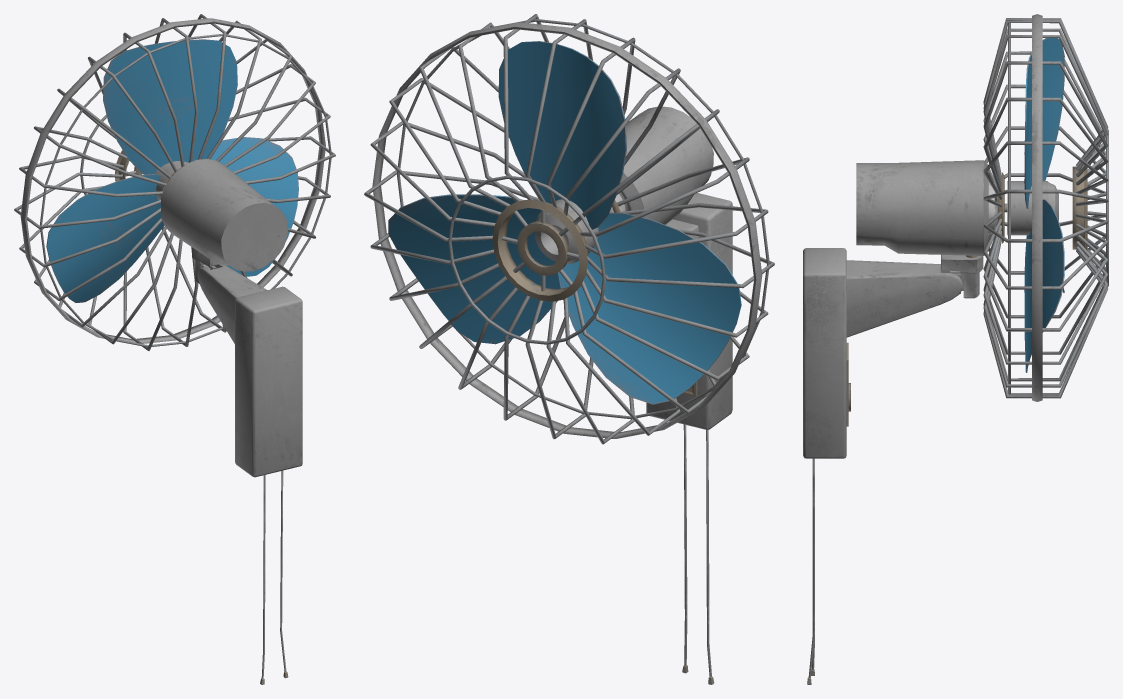
The model's file is Fan.fbx.
3 renders of one model, left to right at view 1: azimuth 30°, elevation 25°; view 2: azimuth 150°, elevation 25°; view 3: azimuth 270°, elevation 25°, orthographic. The views are drawn at different scales.
Parts seen in each view (by area): view 1: Kerangka, Baling baling, Fan; view 2: Kerangka, Baling baling, Fan; view 3: Kerangka, Fan, Baling baling, Engsel.
Part boxes in pixels (left/top/right/bottom): Kerangka: left=14, top=14, right=335, bottom=350; Baling baling: left=46, top=39, right=298, bottom=302; Fan: left=197, top=264, right=302, bottom=684; Kerangka: left=364, top=14, right=774, bottom=444; Baling baling: left=388, top=41, right=741, bottom=404; Fan: left=646, top=193, right=732, bottom=684; Kerangka: left=856, top=14, right=1108, bottom=401; Fan: left=803, top=248, right=962, bottom=684; Baling baling: left=1007, top=38, right=1064, bottom=372; Engsel: left=941, top=255, right=983, bottom=298.
Size of the model in its own units: 92.57 by 170 by 72.69.
